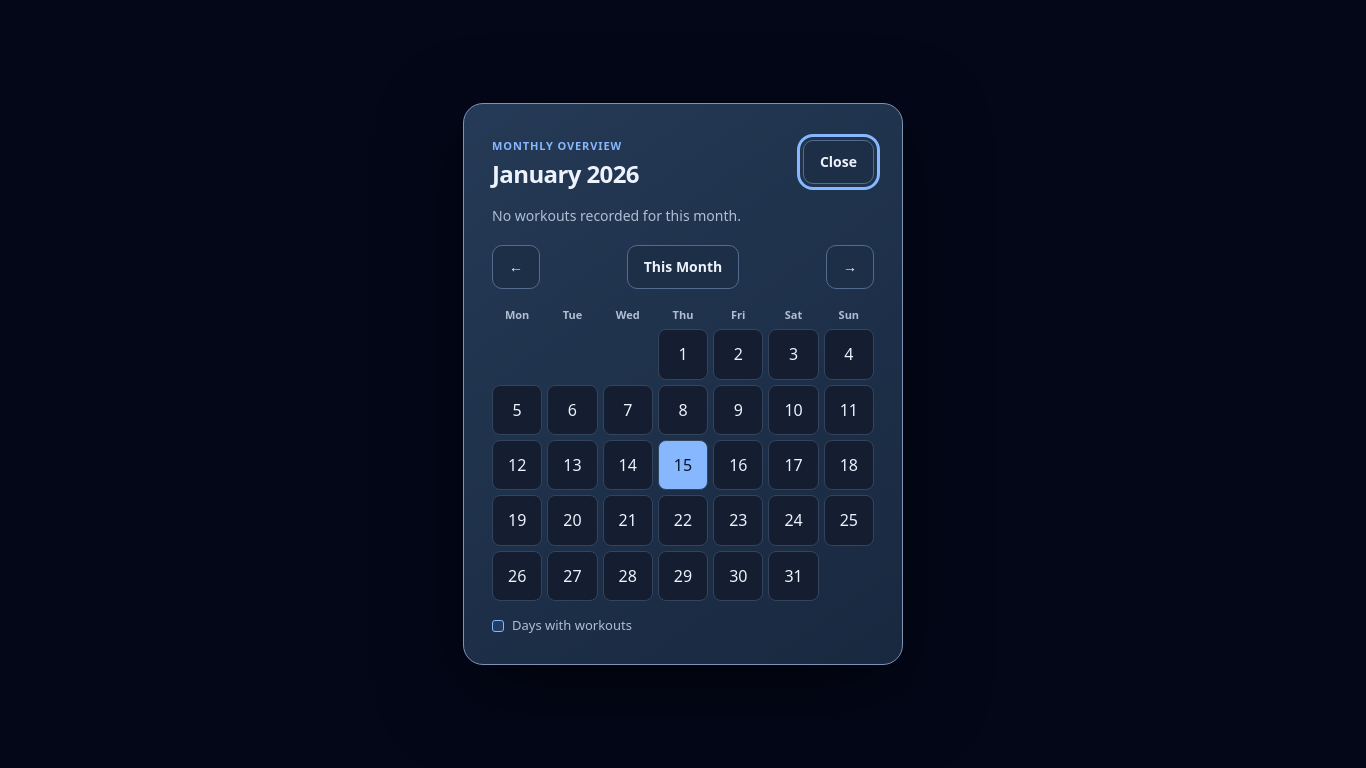
Test: monthly workout summary › updates for month navigation, year boundaries, empty months, and This Month
The width and height of the screenshot is (1366, 768).
Expected: the message reads "No workouts recorded for this month.", [492,206,741,225]
What coordinates should you click on to do the following:
click the button named "Previous month"
I would click on:
 (516, 267)
Its box is [492,245,540,289].
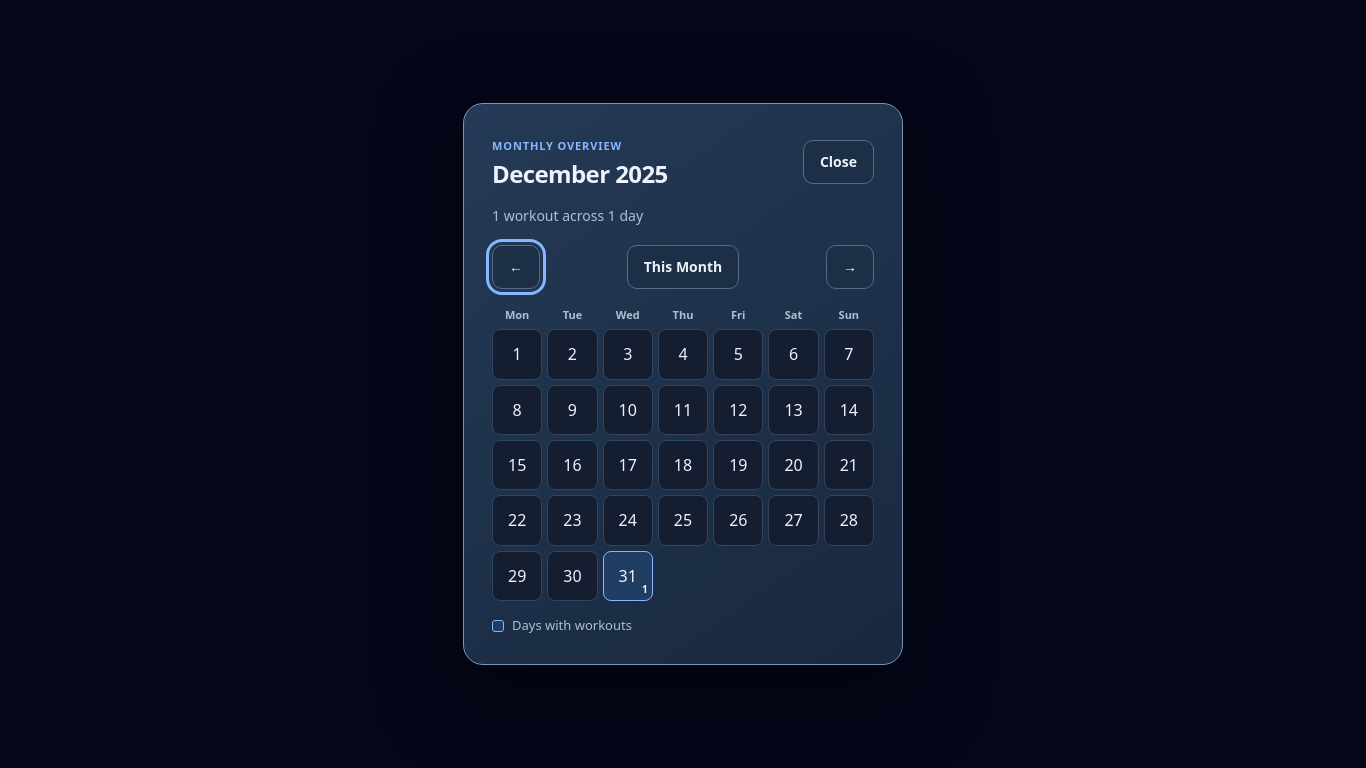
Now the heading "December 2025" is shown, box [492,156,668,192]
Now the message reads "1 workout across 1 day", box [492,206,643,225]
What coordinates should you click on to do the following:
click the button named "Next month"
I would click on:
 (850, 267)
Its box is [826,245,874,289].
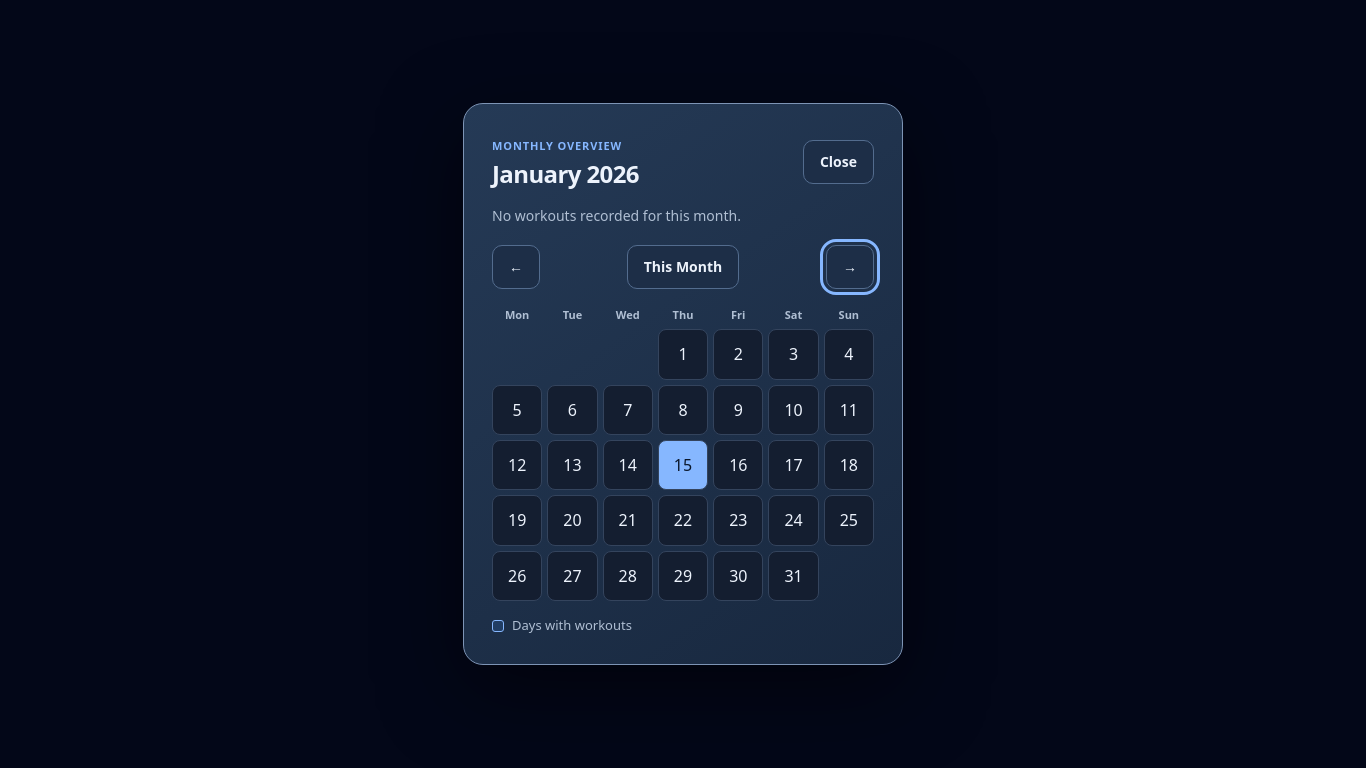
Now the message reads "No workouts recorded for this month.", box [492,206,741,225]
What coordinates should you click on to do the following:
click the button "This Month"
I would click on:
 (683, 267)
Its box is [627,245,739,289].
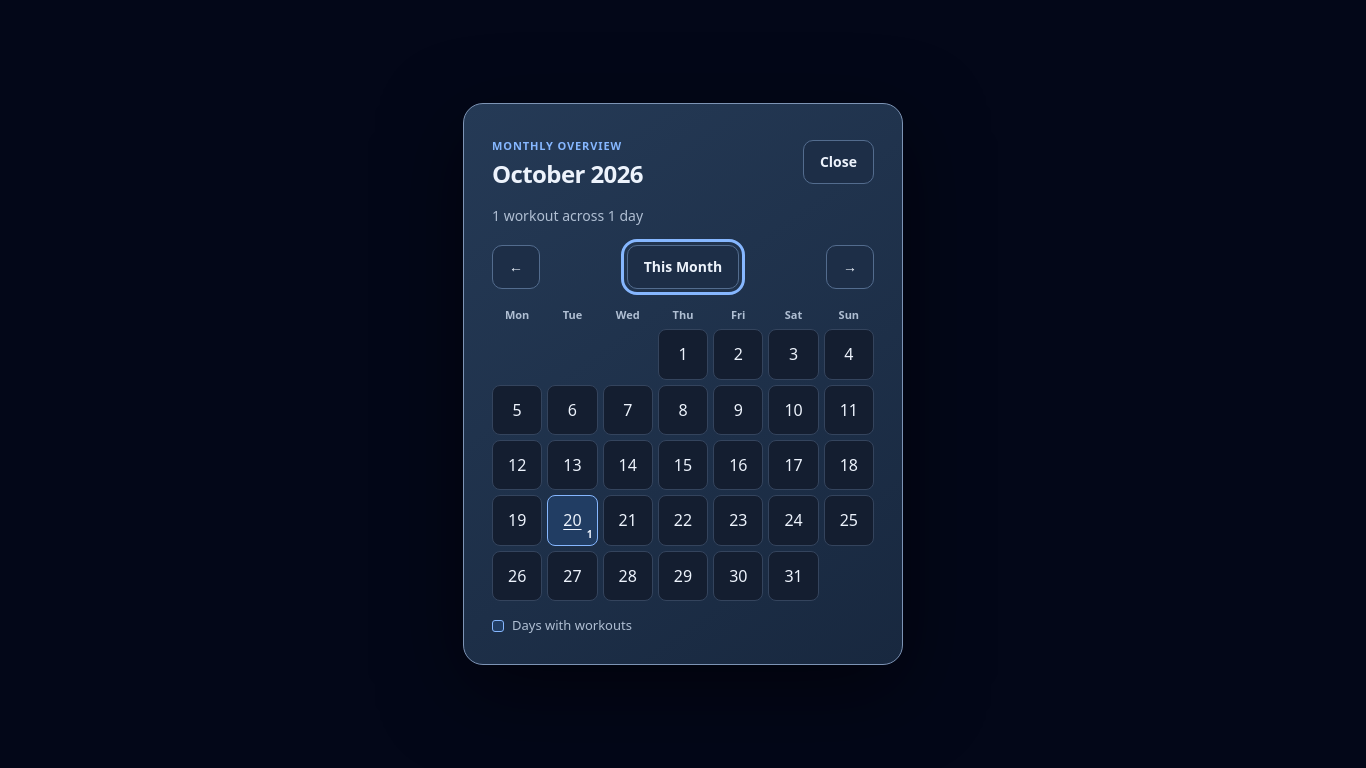
Now the heading "October 2026" is shown, box [492,156,643,192]
Now the message reads "1 workout across 1 day", box [492,206,643,225]
